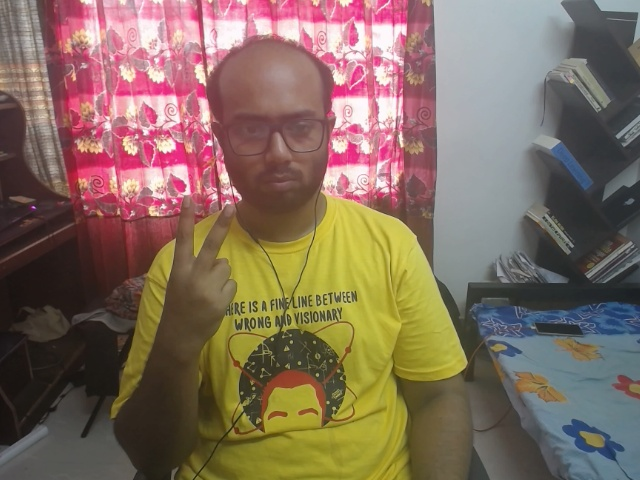two: (146, 184, 287, 354)
